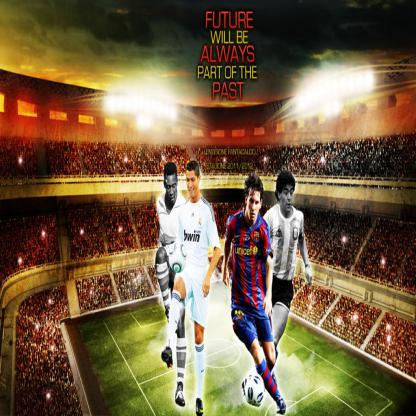face: (248, 189, 261, 222), (166, 175, 178, 204), (282, 184, 294, 212), (187, 171, 199, 198)
